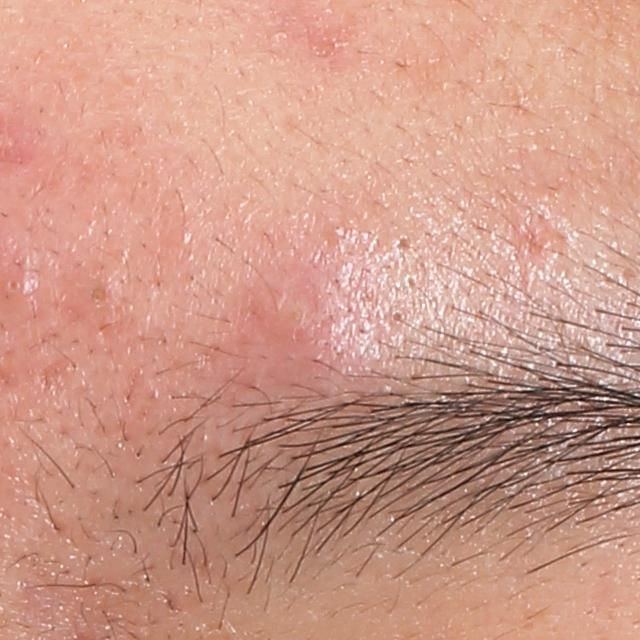comedo: (80, 280, 116, 312), (389, 305, 408, 328)
